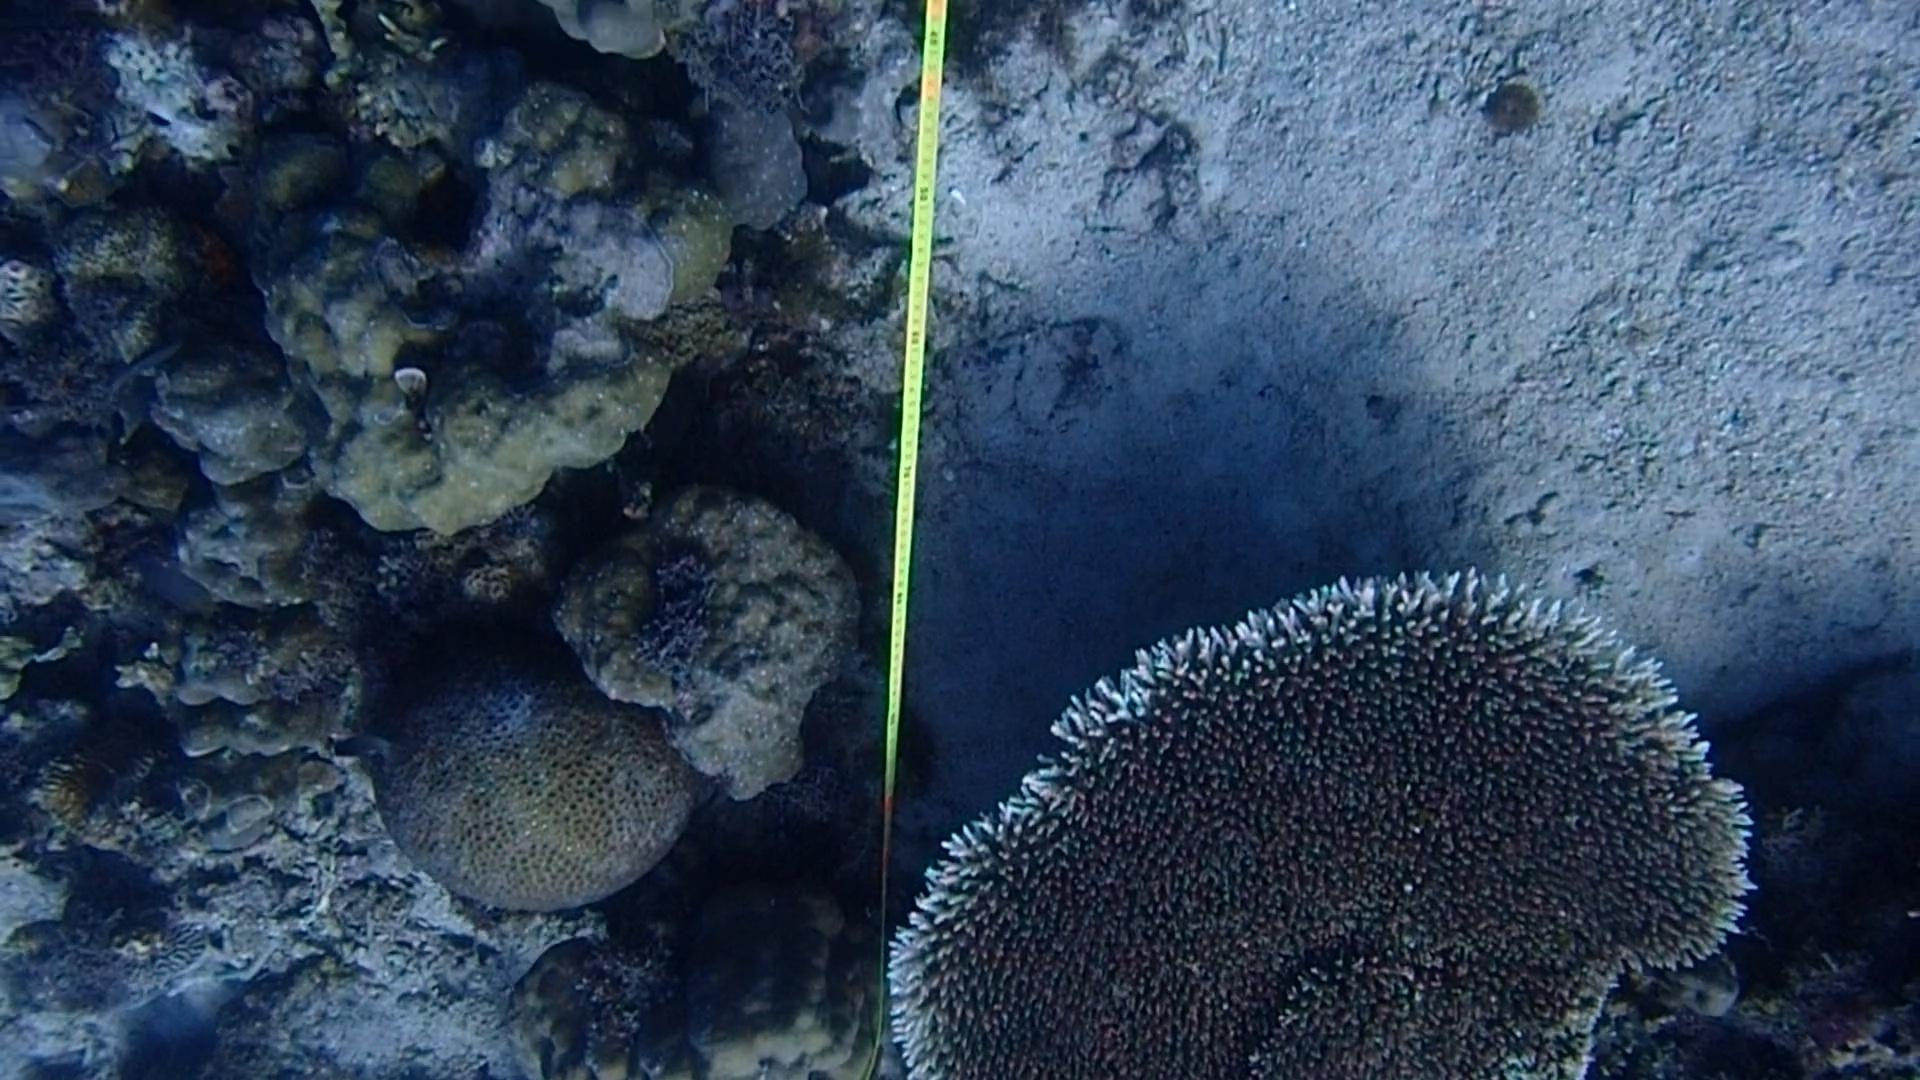Light Fish: (105, 326, 181, 426), (315, 709, 417, 779)
